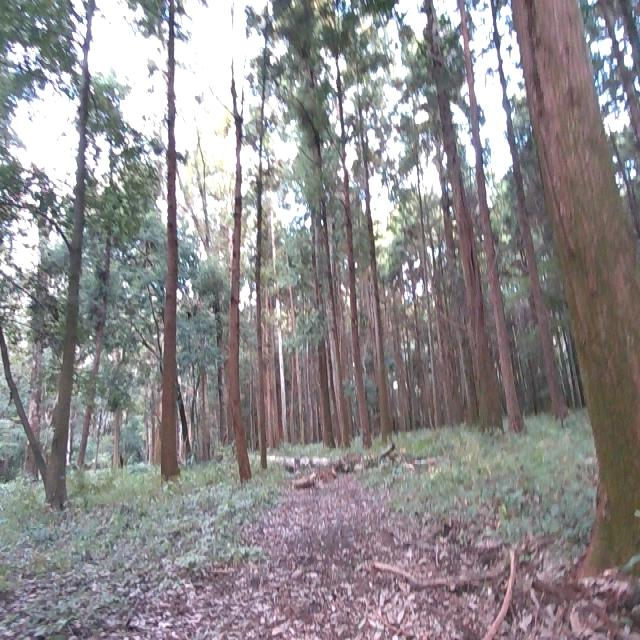tree: (512, 0, 640, 572), (0, 0, 100, 498), (494, 0, 571, 419), (427, 0, 500, 427), (462, 0, 526, 432), (226, 15, 258, 480), (359, 9, 392, 442), (339, 0, 370, 450), (307, 0, 335, 445), (157, 0, 182, 480), (253, 10, 267, 465), (242, 442, 391, 483)
